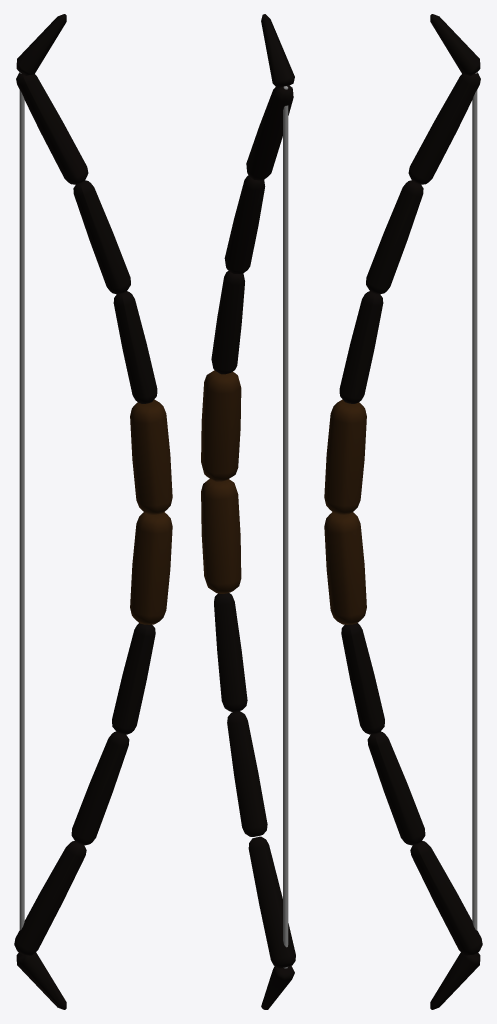
File: Arma_ArcoComposto.fbx
3 views of the same model, side by side, from view 1: azimuth 90°, elevation 25°; view 2: azimuth 210°, elevation 25°; view 3: azimuth 270°, elevation 25° (orthographic).
Visible parts, largest first — view 1: Piece; view 2: Piece; view 3: Piece.
Part boxes in pixels (x1,y1,x2,y2): Piece: (14,14,172,1009); Piece: (201,14,295,1009); Piece: (324,14,482,1009).
Size of the model in its own units: 0.0525 by 1.51 by 0.2178.
